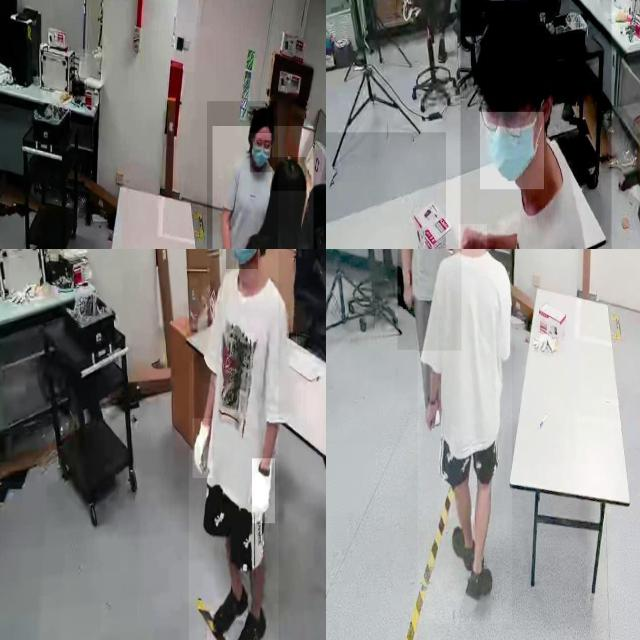face_mask: (480, 112, 544, 189), (250, 140, 272, 172), (226, 249, 258, 269)
glasses: (477, 100, 525, 142)
hand_glove: (252, 458, 276, 524), (193, 418, 213, 479)
hand_noglove: (458, 224, 487, 249), (424, 400, 436, 430), (401, 283, 413, 310)
head_nohelmet: (474, 1, 556, 86), (272, 157, 307, 192), (250, 106, 274, 134)
person: (460, 0, 611, 249), (417, 249, 512, 624), (189, 249, 279, 640), (212, 126, 313, 249), (207, 101, 278, 249), (397, 249, 461, 350)
shoes: (207, 580, 250, 640), (231, 594, 272, 640), (449, 518, 481, 574), (462, 560, 498, 602), (436, 35, 451, 63)
